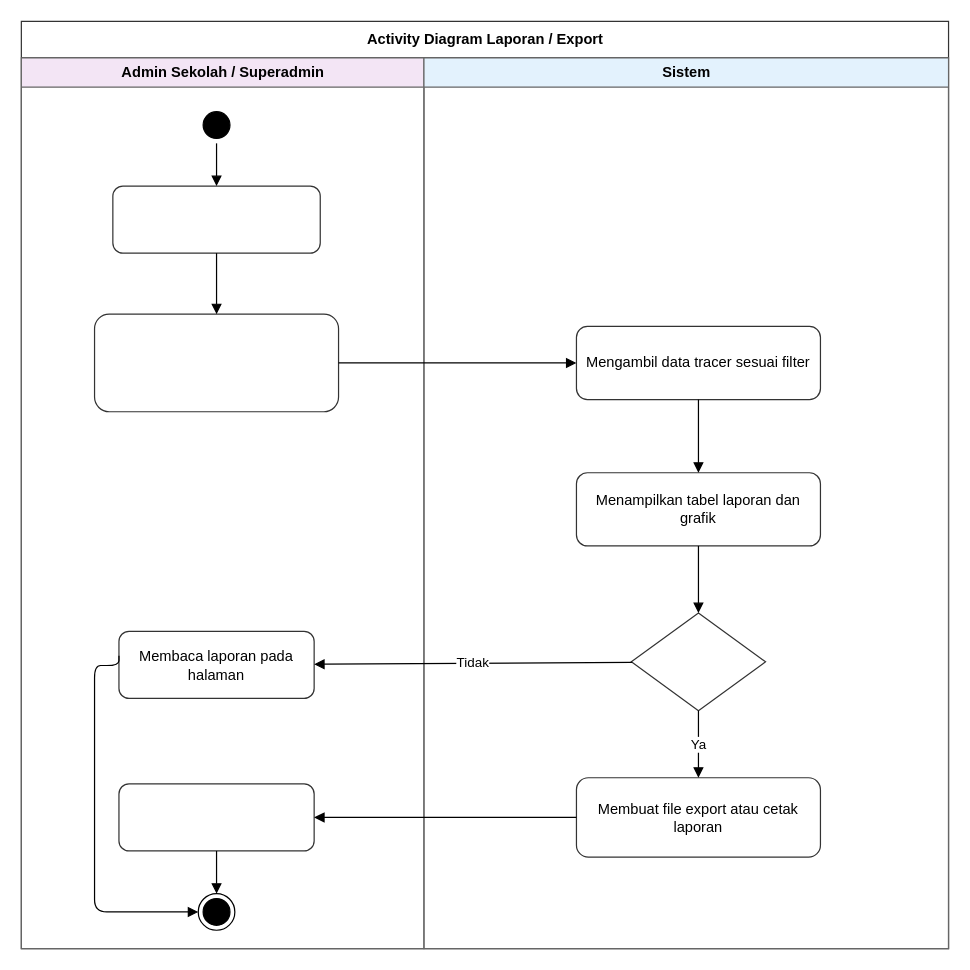
This 970x970 diagram has some shape labels left out. The shapes that lost their labels are listed below. From the top down, each one's centre as x and y in pixels, then its label:
At point (216, 219): "Membuka menu laporan tracer".
At point (216, 362): "Mengisi filter pencarian, angkatan, kompetensi, aktivitas, atau status".
At point (698, 661): "Export laporan?".
At point (216, 817): "Mengunduh / mencetak laporan".
